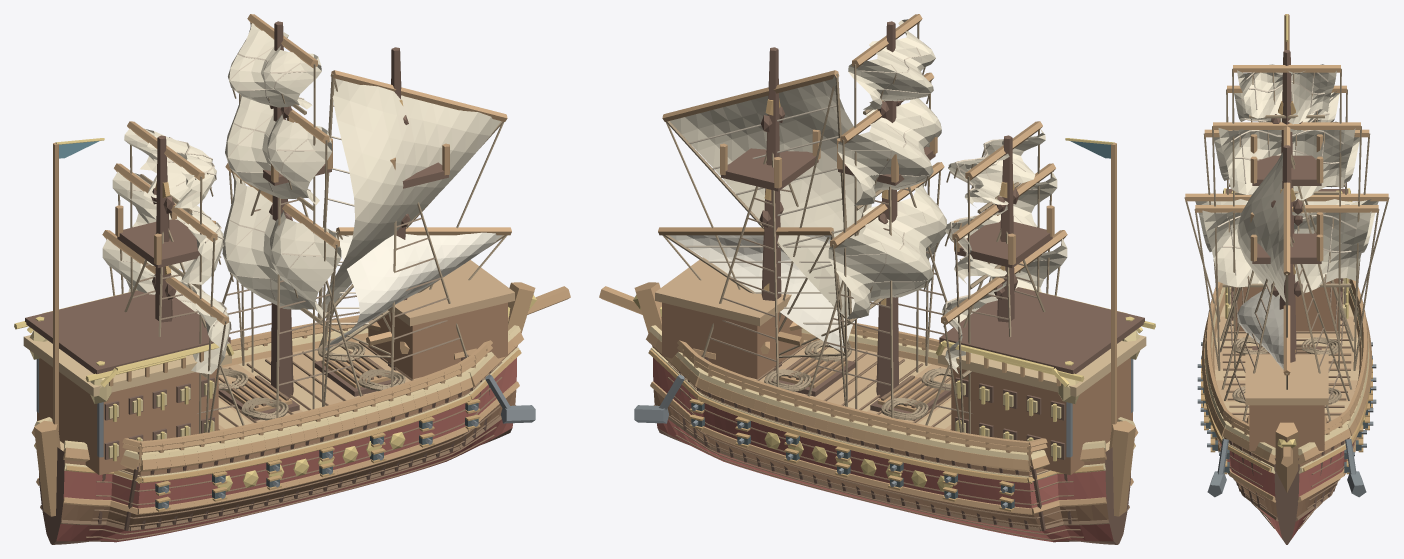
Rendered from manila_galleon-v5-mobile.glb.
3 views of the same model, side by side, from view 1: azimuth 30°, elevation 25°; view 2: azimuth 150°, elevation 25°; view 3: azimuth 270°, elevation 25° (orthographic). The views are drawn at different scales.
Visible parts, largest first — view 1: manila_galleon_sails_sail, manila_galleon_deck_hull2, manila_galleon_hull_wood, manila_galleon_hull_red, manila_galleon_deck_darkwood, manila_galleon_masts_darkwood, manila_galleon_hull_seam, manila_galleon_sails_sailbright, manila_galleon_rigging_wood, manila_galleon_rigging_rope, manila_galleon_railings_wood, manila_galleon_hull_hull2 (+22 smaller); view 2: manila_galleon_sails_sail, manila_galleon_deck_hull2, manila_galleon_masts_darkwood, manila_galleon_hull_wood, manila_galleon_hull_red, manila_galleon_deck_darkwood, manila_galleon_rigging_rope, manila_galleon_rigging_wood, manila_galleon_hull_seam, manila_galleon_railings_wood, manila_galleon_hull_hull2, manila_galleon_sails_sailbright (+22 smaller); view 3: manila_galleon_sails_sail, manila_galleon_rigging_wood, manila_galleon_rigging_rope, manila_galleon_masts_darkwood, manila_galleon_deck_hull2, manila_galleon_hull_wood, manila_galleon_deck_deck, manila_galleon_masts_rope, manila_galleon_hull_deck, manila_galleon_railings_wood, manila_galleon_hull_red, manila_galleon_hull_seam (+14 smaller).
Boxes of the visible parts, x1,y1,x2,y2 form: manila_galleon_sails_sail: (102,23,500,374); manila_galleon_deck_hull2: (37,302,507,475); manila_galleon_hull_wood: (31,282,570,516); manila_galleon_hull_red: (56,358,516,542); manila_galleon_deck_darkwood: (25,290,230,459); manila_galleon_masts_darkwood: (117,21,448,397); manila_galleon_hull_seam: (40,342,515,540); manila_galleon_sails_sailbright: (325,232,502,350); manila_galleon_rigging_wood: (102,14,511,325); manila_galleon_rigging_rope: (106,22,507,433); manila_galleon_railings_wood: (122,315,492,465); manila_galleon_hull_hull2: (61,346,517,528); manila_galleon_sails_sail: (670,19,1067,373); manila_galleon_deck_hull2: (662,302,1132,475); manila_galleon_masts_darkwood: (721,21,1052,397); manila_galleon_hull_wood: (599,282,1138,516); manila_galleon_hull_red: (653,358,1113,542); manila_galleon_deck_darkwood: (939,287,1144,459); manila_galleon_rigging_rope: (662,22,1063,433); manila_galleon_rigging_wood: (658,14,1067,325); manila_galleon_hull_seam: (654,342,1129,540); manila_galleon_railings_wood: (677,322,1047,465); manila_galleon_hull_hull2: (652,346,1108,528); manila_galleon_sails_sailbright: (669,235,854,351); manila_galleon_sails_sail: (1195,64,1378,301); manila_galleon_rigging_wood: (1185,65,1388,375); manila_galleon_rigging_rope: (1184,68,1389,389); manila_galleon_masts_darkwood: (1252,50,1321,362); manila_galleon_deck_hull2: (1233,278,1340,450); manila_galleon_hull_wood: (1202,288,1371,502); manila_galleon_deck_deck: (1245,354,1328,405); manila_galleon_masts_rope: (1220,154,1353,421); manila_galleon_hull_deck: (1214,298,1359,420); manila_galleon_railings_wood: (1205,278,1368,434); manila_galleon_hull_red: (1219,440,1354,538); manila_galleon_hull_seam: (1217,294,1356,528).
Size of the model in its own units: 59.97 by 51.3 by 23.53.
